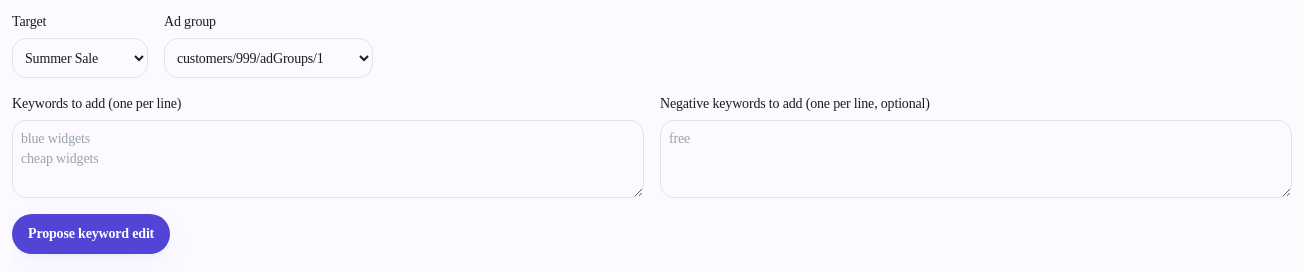
Test: AutomationProposeKeywordEditForm › shows an inline error and does not refresh when the request fails
In the text box labelled "Keywords to add (one per line)": (328, 159) 12,120 -> 644,198, type "blue widgets"
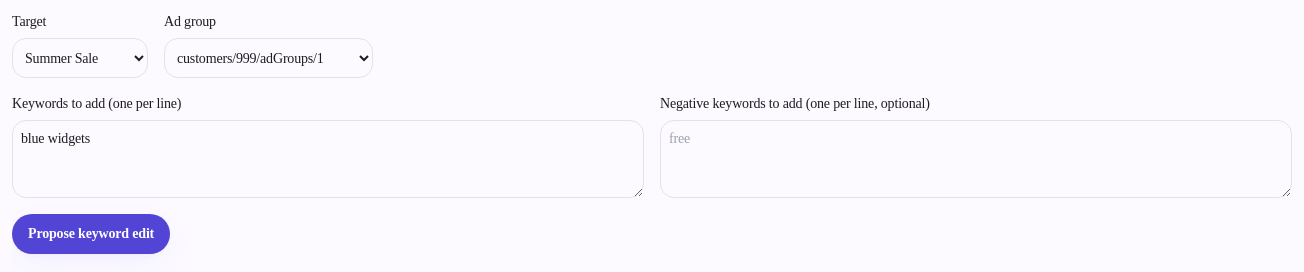
Click the button "Propose keyword edit": (91, 234) 12,214 -> 170,254
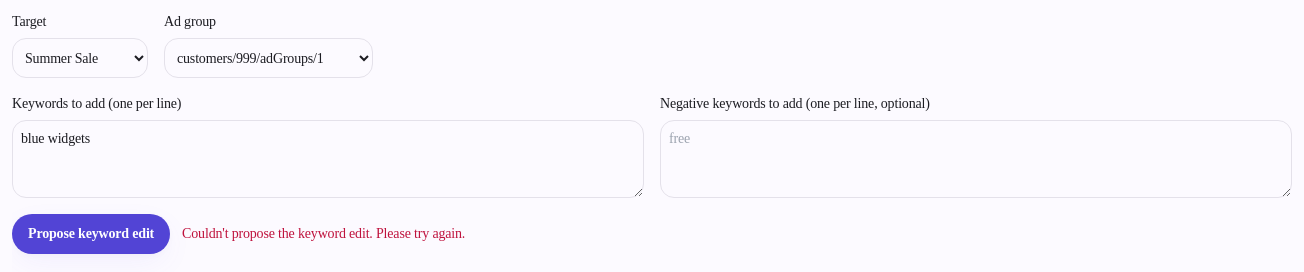
Expected: the message reads "Couldn't propose the keyword edit. Please try again.", 182,226 -> 465,241
